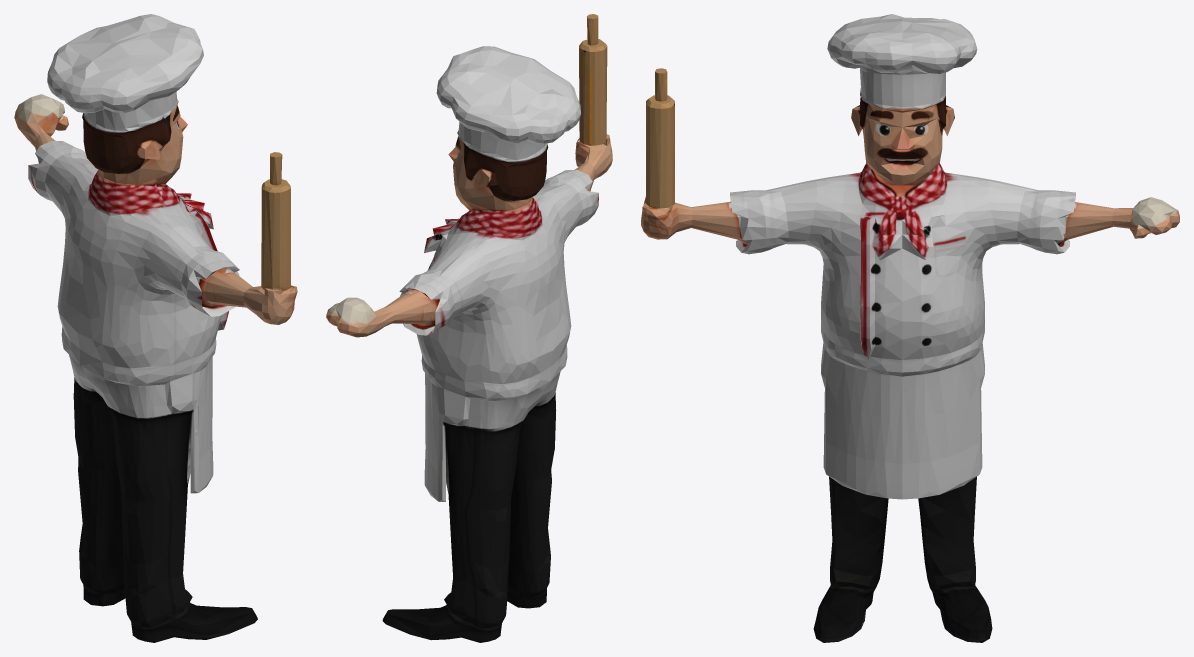
File: ItalianChef2.glb
The picture shows the model from 3 angles, left to right: view 1: azimuth 30°, elevation 25°; view 2: azimuth 150°, elevation 25°; view 3: azimuth 270°, elevation 25°; orthographic projection. The views are drawn at different scales.
Parts seen in each view (by area): view 1: tripo_node_8b68fda4-0355-439e-91fb-9c21edf2cb0d; view 2: tripo_node_8b68fda4-0355-439e-91fb-9c21edf2cb0d; view 3: tripo_node_8b68fda4-0355-439e-91fb-9c21edf2cb0d.
Part boxes in pixels (left/top/right/bottom): tripo_node_8b68fda4-0355-439e-91fb-9c21edf2cb0d: left=14, top=14, right=297, bottom=642; tripo_node_8b68fda4-0355-439e-91fb-9c21edf2cb0d: left=326, top=14, right=612, bottom=642; tripo_node_8b68fda4-0355-439e-91fb-9c21edf2cb0d: left=641, top=14, right=1179, bottom=642.
Size of the model in its own units: 0.2707 by 0.9492 by 0.7883.
Materials: 1 (1 with a texture image).
